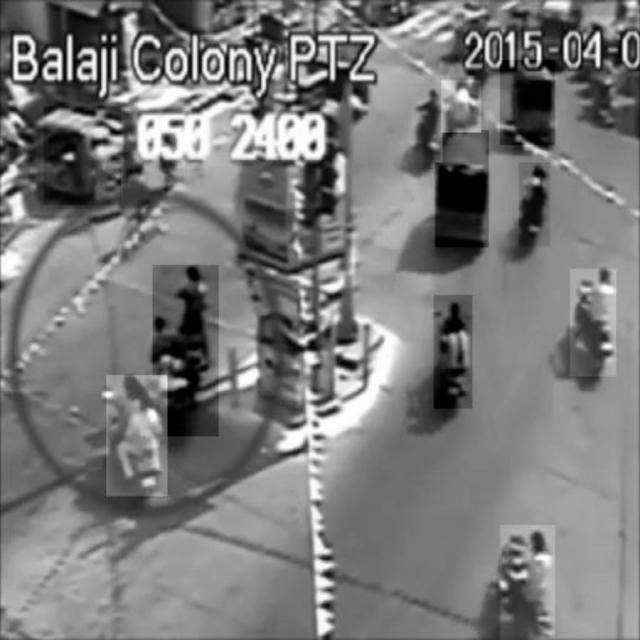accident: (153, 265, 219, 435)
vehicle: (44, 107, 121, 205), (106, 376, 167, 497), (500, 525, 556, 639), (435, 130, 489, 248), (570, 269, 616, 377), (500, 60, 555, 144), (434, 296, 472, 409), (409, 87, 443, 163), (519, 163, 549, 246), (442, 79, 482, 133)
